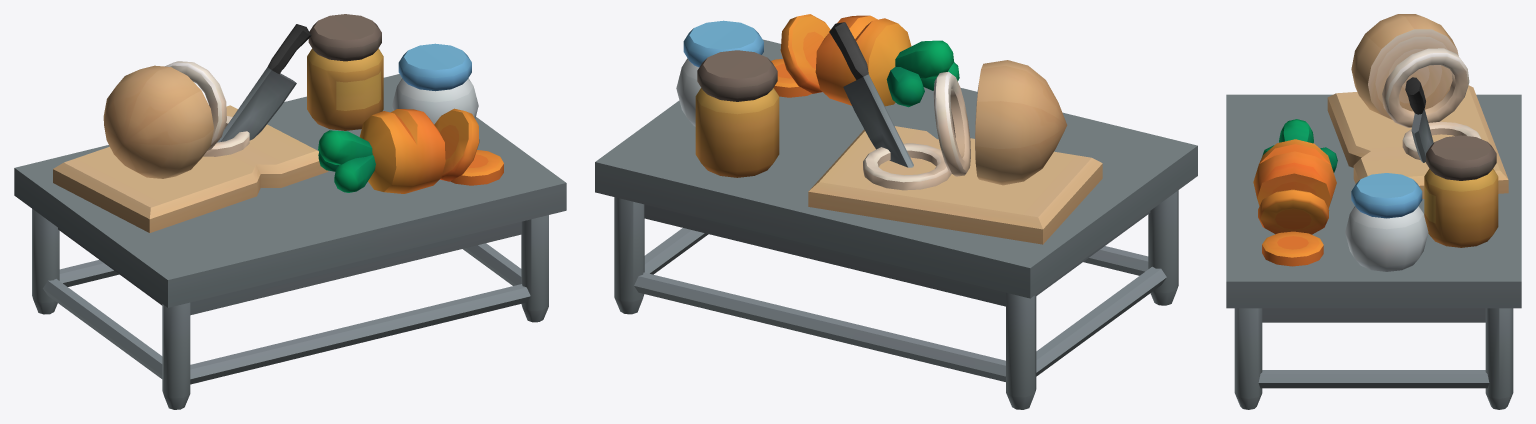
File: kay-mesa-cozinha.gltf
The picture shows the model from 3 angles, left to right: view 1: azimuth 30°, elevation 25°; view 2: azimuth 150°, elevation 25°; view 3: azimuth 270°, elevation 25°; orthographic projection. The views are drawn at different scales.
Parts seen in each view (by area): view 1: kitchentable_A_large_decorated; view 2: kitchentable_A_large_decorated; view 3: kitchentable_A_large_decorated.
Boxes of the visible parts, <box> form: kitchentable_A_large_decorated: <box>14,14,566,409</box>; kitchentable_A_large_decorated: <box>595,14,1197,409</box>; kitchentable_A_large_decorated: <box>1226,14,1521,409</box>.
Bounding box in the file's own units: 1.95 × 1.25 × 1.3.
1 material, 1 textured.
